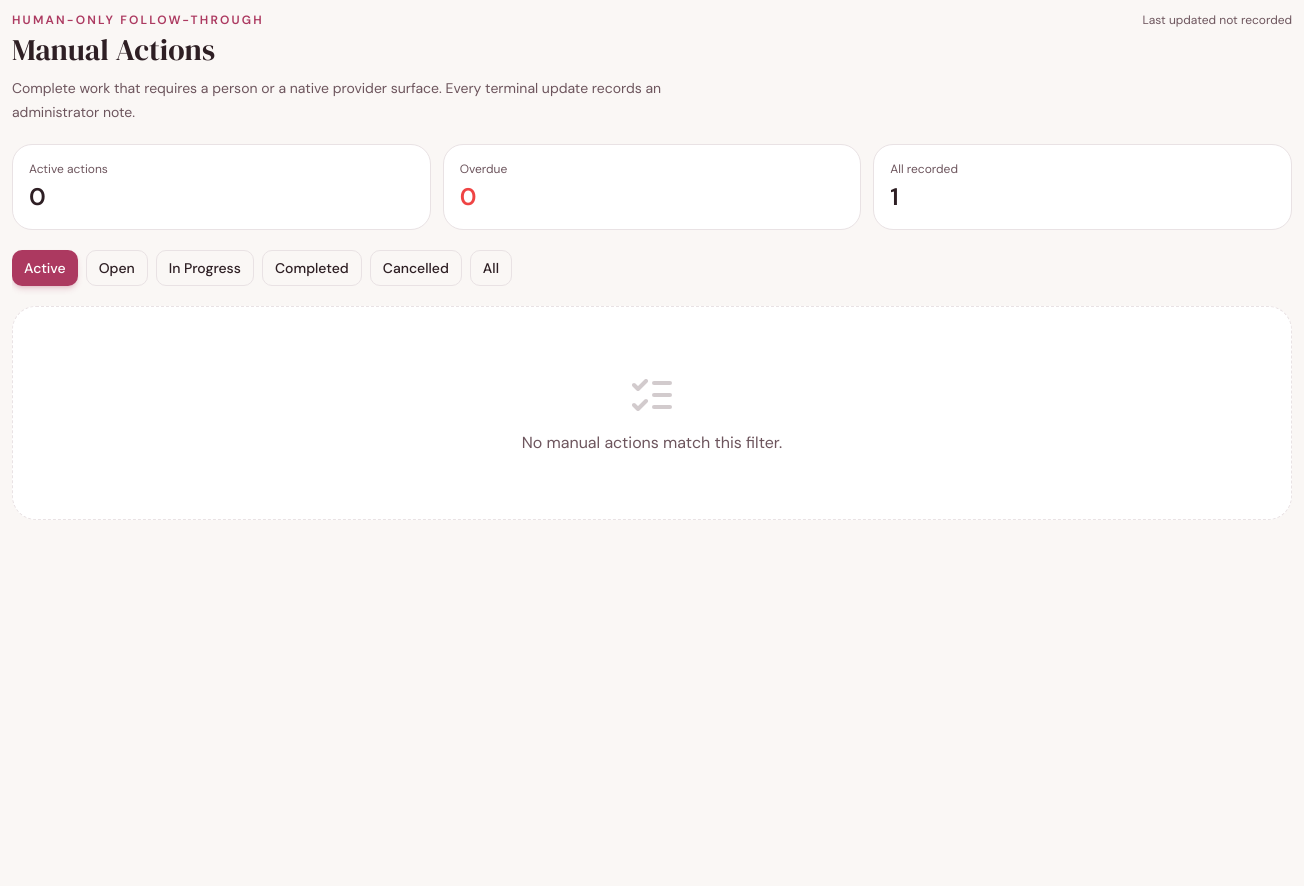
Test: SocialManualActionsPanel evidence › retains every linked entity and structured system evidence
Click the button "Completed". click: point(312, 268)
box: [262,250,362,286]
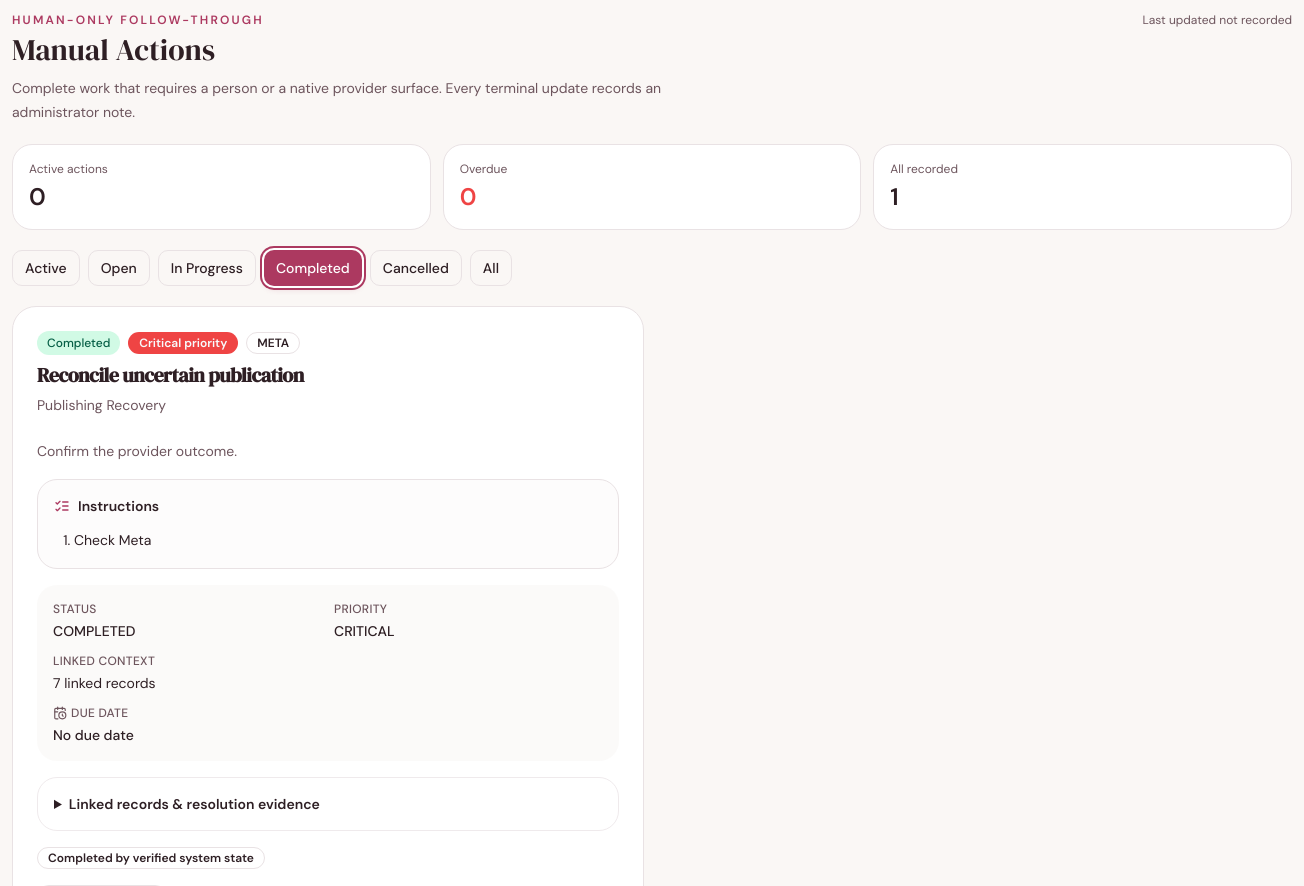
Expected: the text "7 linked records" is shown, [53,674,156,692]
Expected: the text "Completed by verified system state" is shown, [37,847,265,869]
